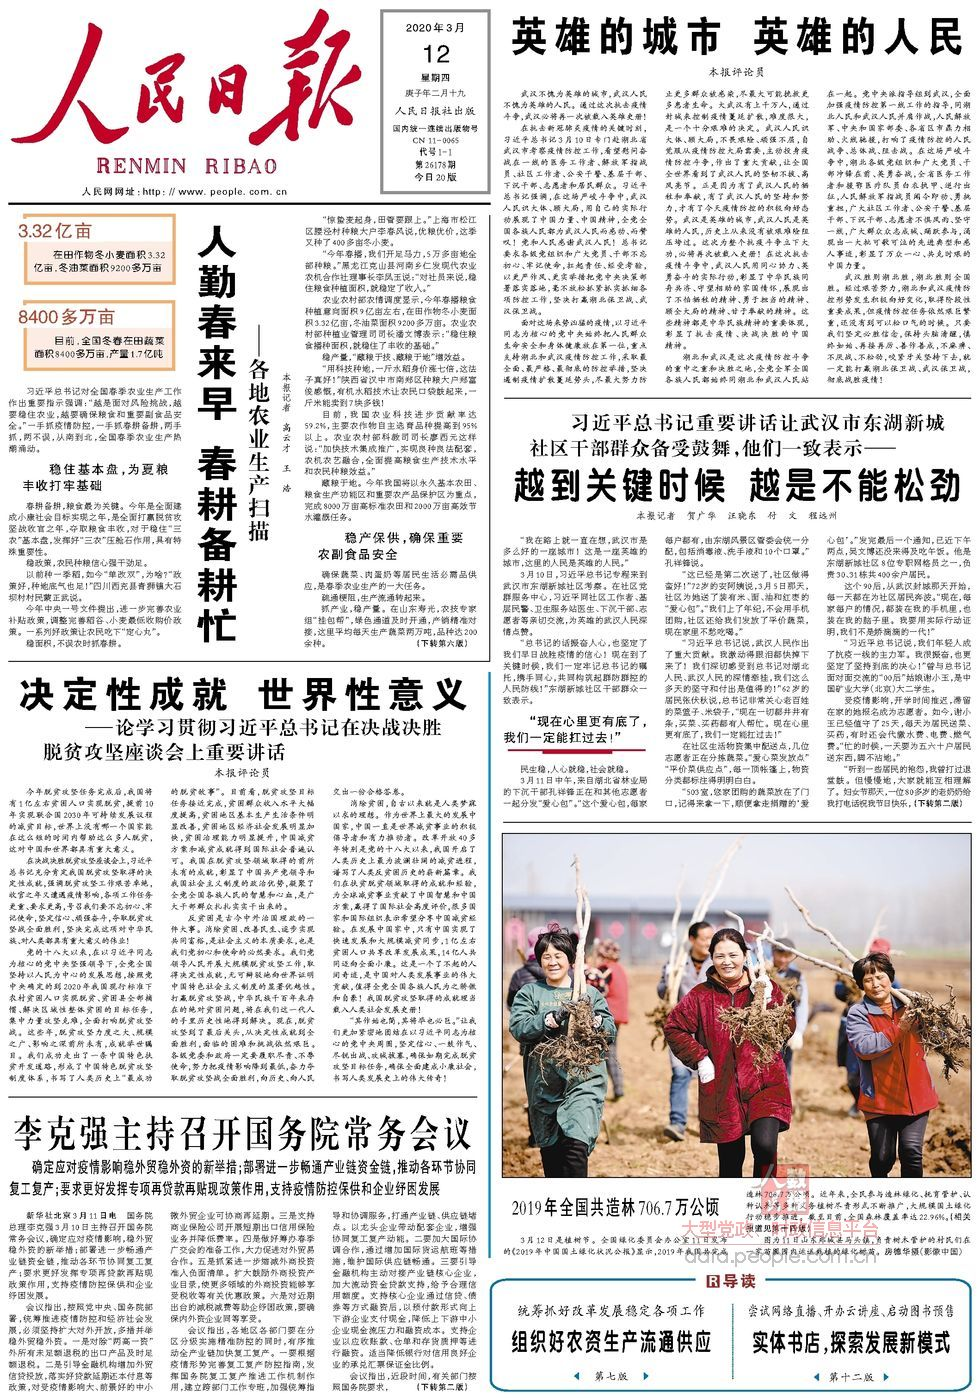pic: (497, 828, 978, 1184)
